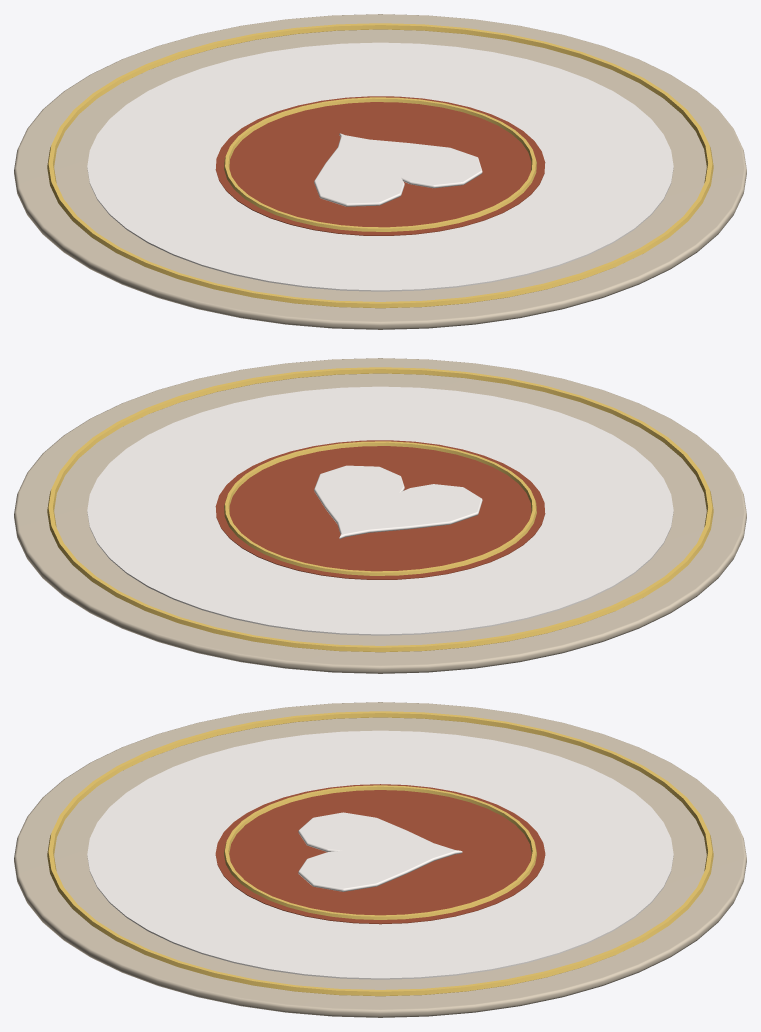
Rendered from rug_round.glb.
3 views of the same model, one above another, from view 1: azimuth 30°, elevation 25°; view 2: azimuth 150°, elevation 25°; view 3: azimuth 270°, elevation 25° (orthographic).
Visible parts, largest first — view 1: rug_round; view 2: rug_round; view 3: rug_round.
Boxes of the visible parts, <box> form: rug_round: <box>14,14,746,329</box>; rug_round: <box>14,358,746,673</box>; rug_round: <box>14,702,746,1017</box>.
Bounding box in the file's own units: 2 × 0.041 × 2.
